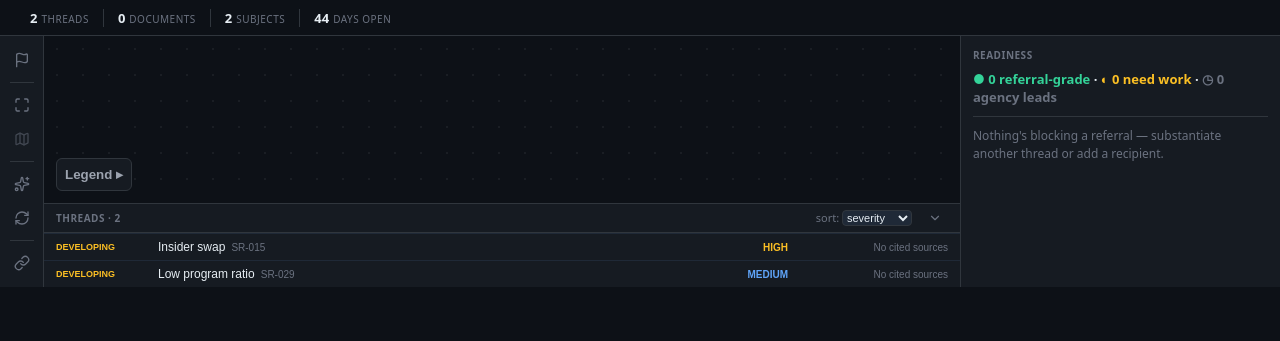
Test case: InvestigateTab Thread Path Mode › dock lists threads and selecting a row opens ThreadInspector + marks the row active
Click the button with aria-label "thread row Insider swap" at (86, 247), box left=44, top=233, right=960, bottom=260
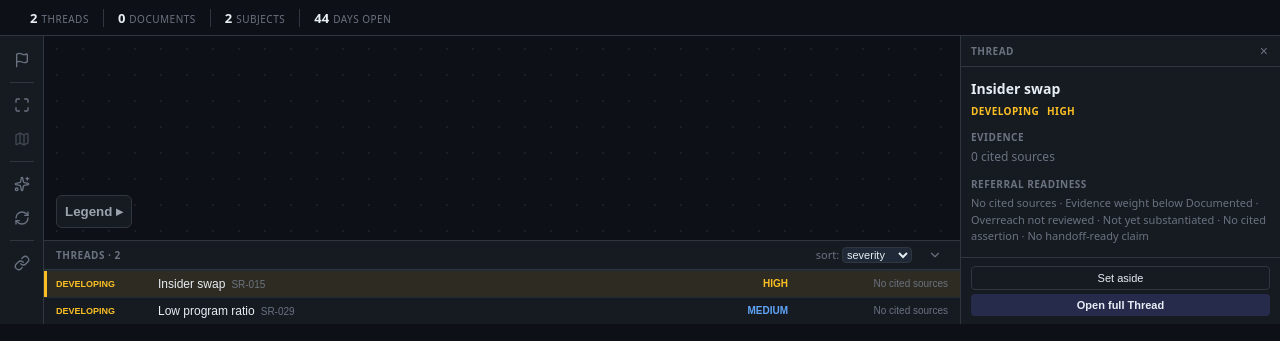
Now the text "Thread" is shown, box left=971, top=44, right=1014, bottom=58
